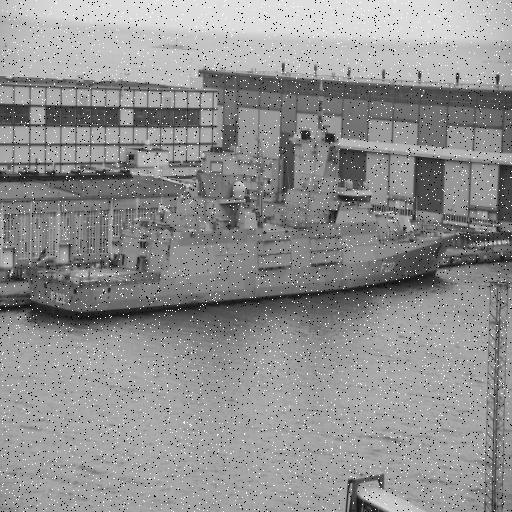Fragata: (24, 69, 465, 327)
